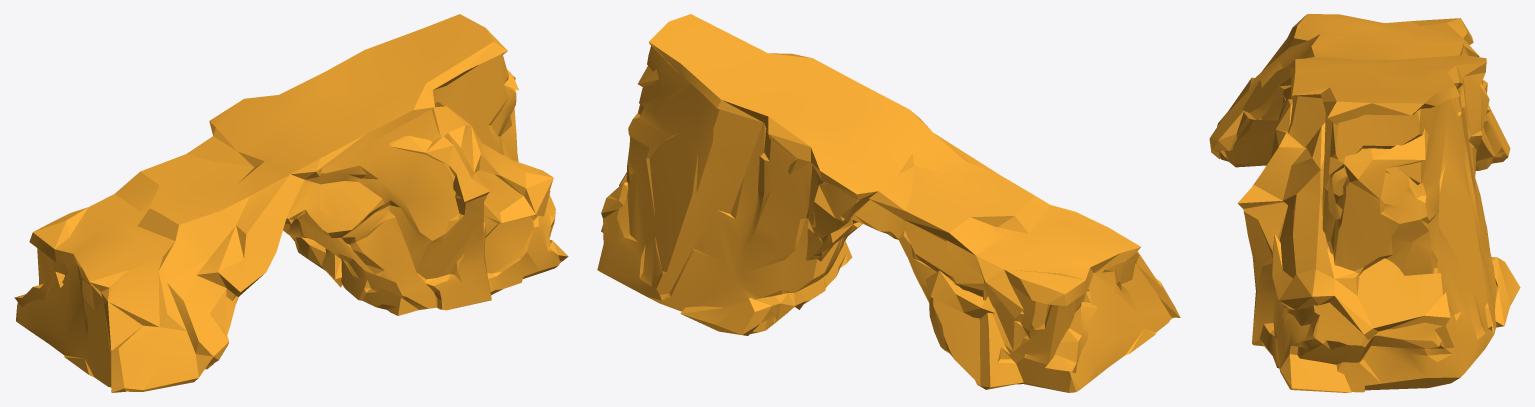
File: SM_Iceberg_Medium_E_Snow.fbx
3 renders of one model, left to right at view 1: azimuth 30°, elevation 25°; view 2: azimuth 150°, elevation 25°; view 3: azimuth 270°, elevation 25°, orthographic. The views are drawn at different scales.
Parts seen in each view (by area): view 1: iceberg-medium-e-snow; view 2: iceberg-medium-e-snow; view 3: iceberg-medium-e-snow.
Part boxes in pixels (x1,y1,x2,y2): iceberg-medium-e-snow: (14, 14, 568, 392); iceberg-medium-e-snow: (597, 14, 1180, 392); iceberg-medium-e-snow: (1209, 14, 1520, 392).
Bounding box in the file's own units: 20.56 × 9.57 × 9.7.
